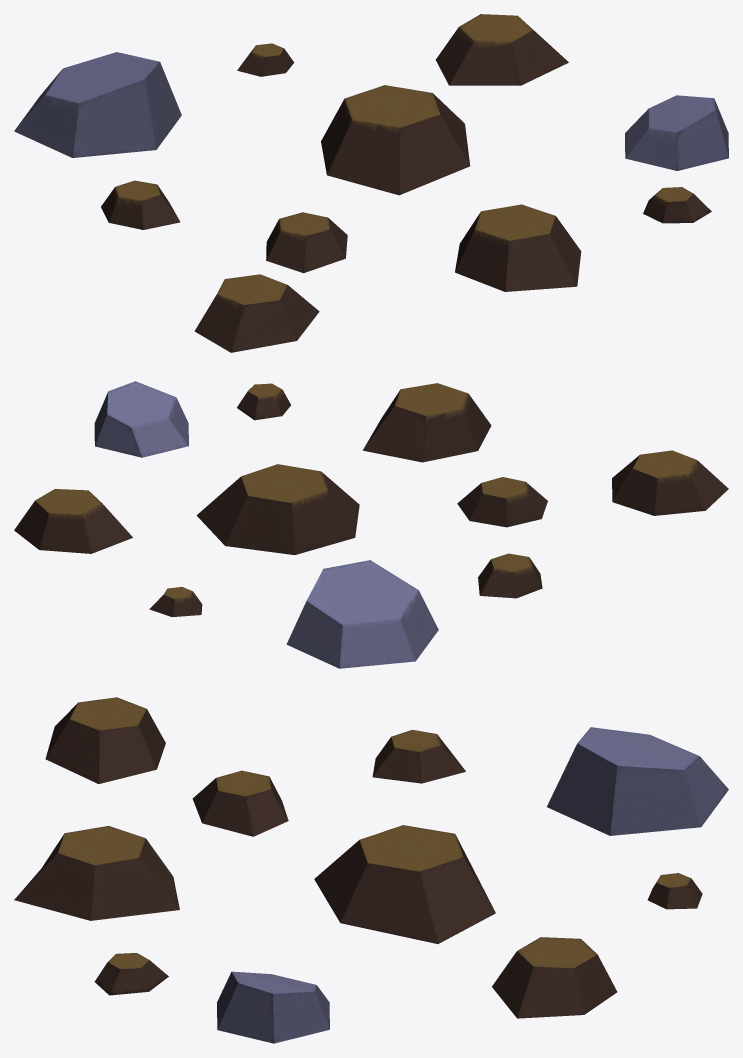
File: tile_wood_3_ruin_lod0.fbx
3 renders of one model, top to bottom at view 1: azimuth 30°, elevation 25°; view 2: azimuth 150°, elevation 25°; view 3: azimuth 270°, elevation 25°, orthographic. The views are drawn at different scales.
Visible parts, largest first — view 1: wood_3_ruin_lod0; view 2: wood_3_ruin_lod0; view 3: wood_3_ruin_lod0.
Boxes of the visible parts, bbox=[...] form: wood_3_ruin_lod0: bbox=[14, 14, 728, 352]; wood_3_ruin_lod0: bbox=[14, 381, 728, 668]; wood_3_ruin_lod0: bbox=[14, 697, 728, 1043].
Bounding box in the file's own units: 0.0516 × 0.00494 × 0.0487.
